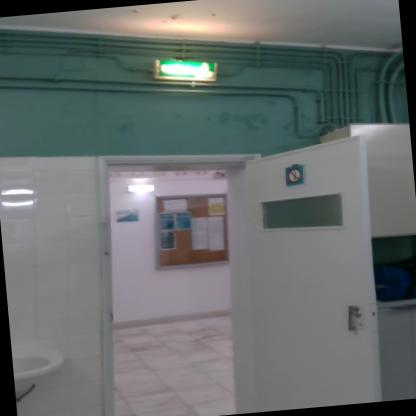open: (89, 120, 392, 415)
